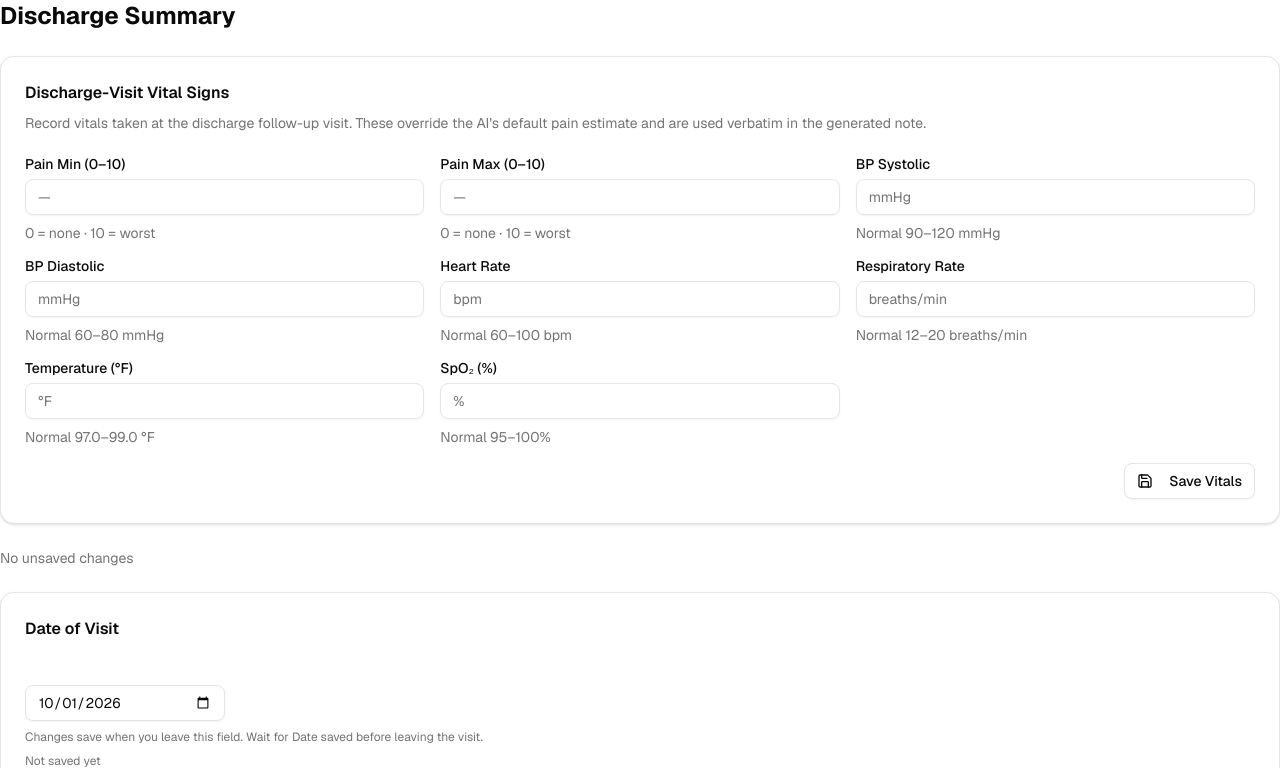
Test: discharge refuses Generate after the date is cleared
Clear the date field. click: (125, 703)
box: [25, 685, 225, 721]
(page scrolled)
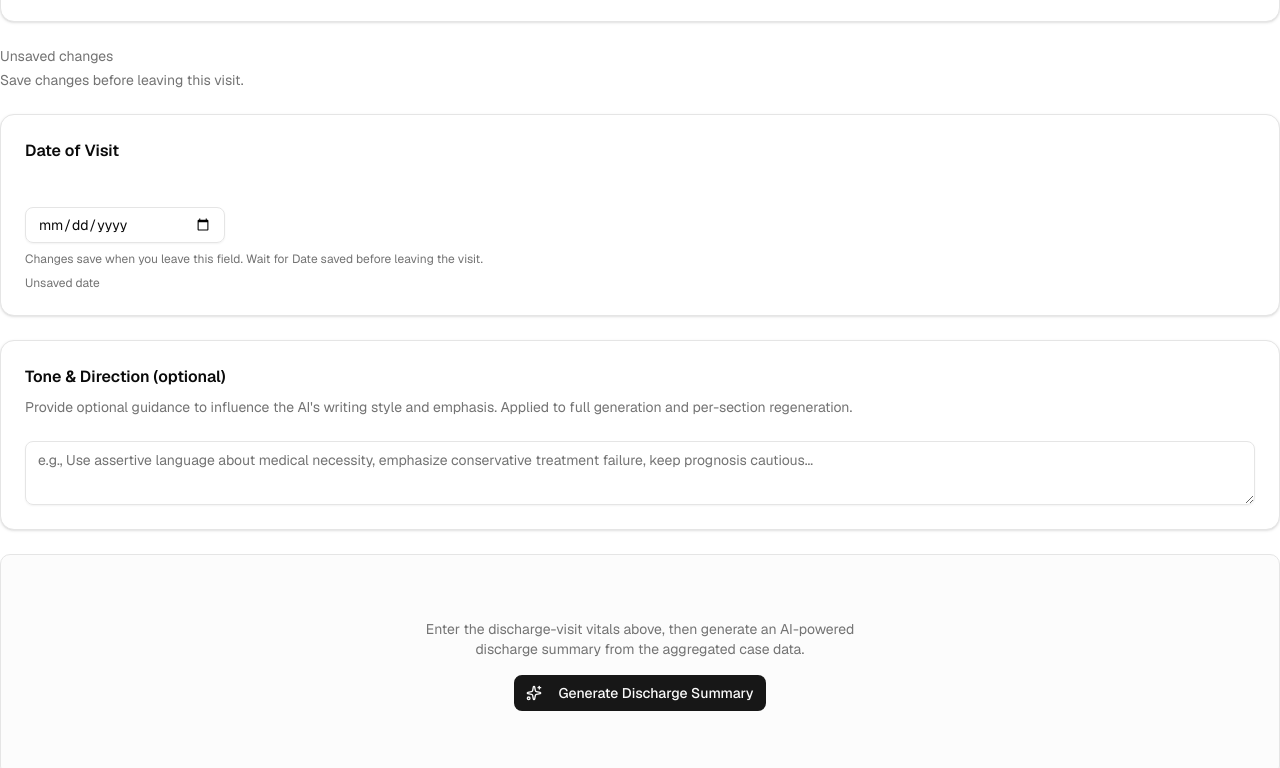
Click the button "Generate Discharge Summary". click: (640, 693)
box: [514, 675, 766, 711]
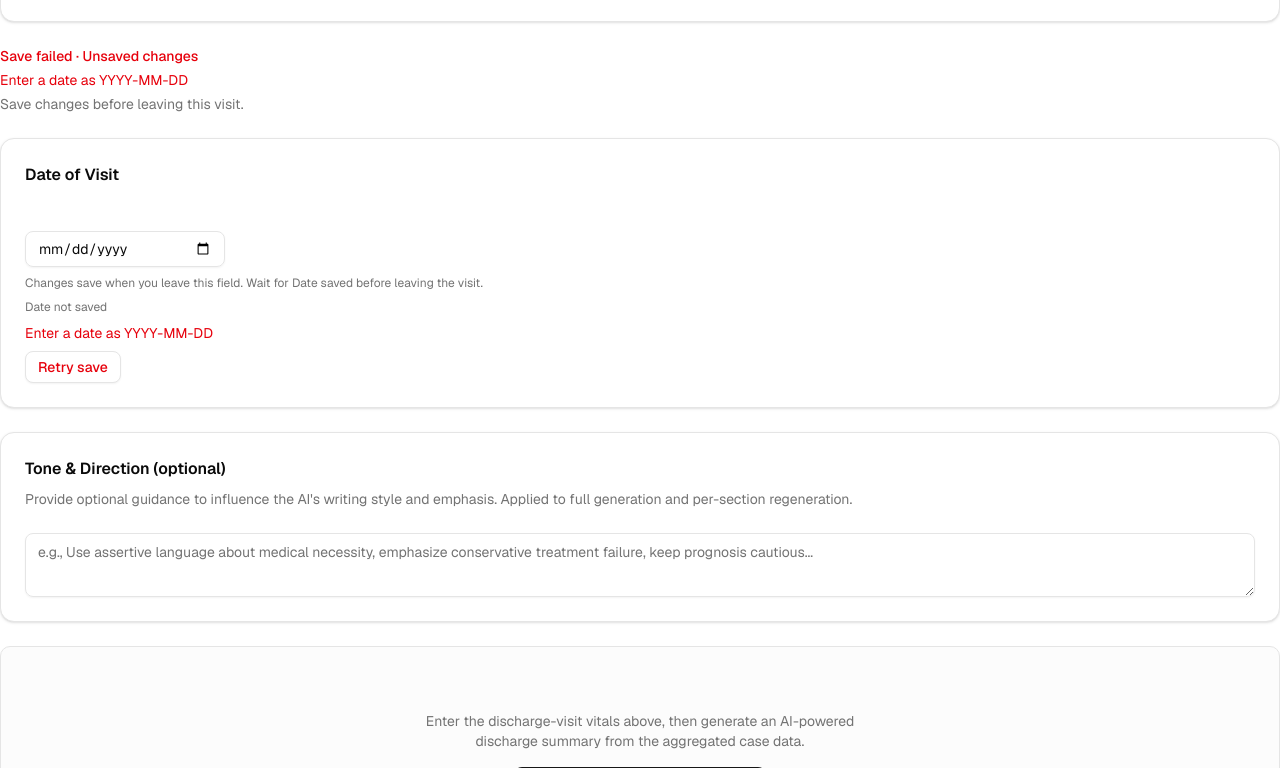
Now the text "Date not saved" is shown, box [25, 299, 107, 315]
